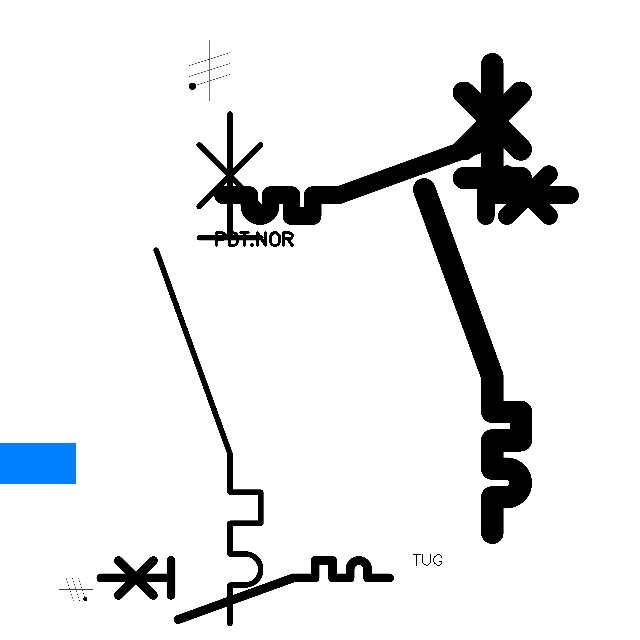interruptor_termomagnetico: (143, 100, 274, 636), (412, 52, 533, 545), (214, 136, 579, 225), (93, 553, 397, 627)
